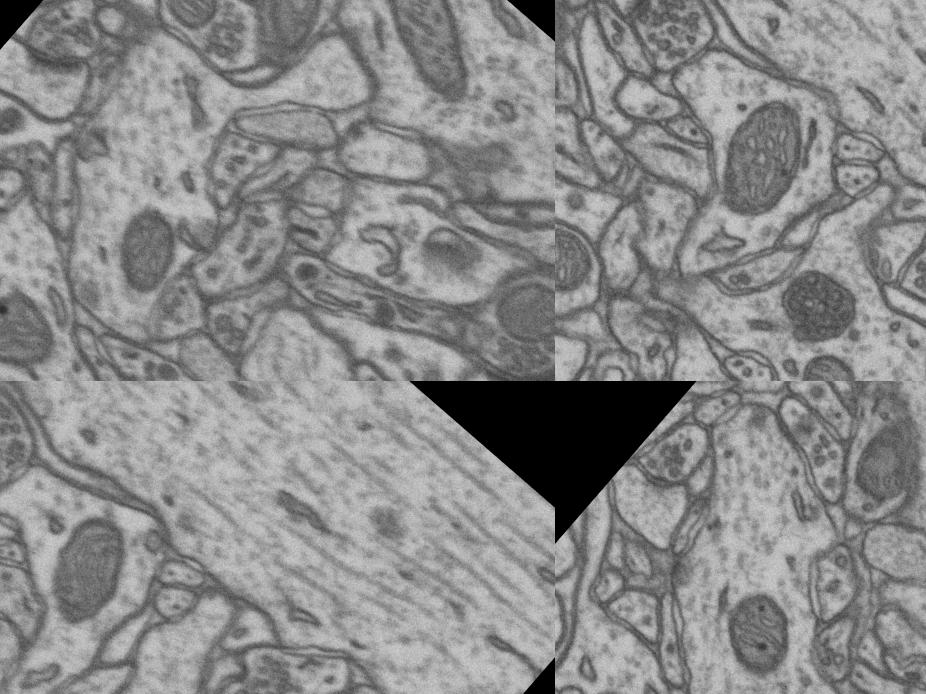mitochondria: (11, 484, 165, 642), (690, 68, 844, 224), (332, 0, 527, 117), (694, 573, 820, 694), (85, 192, 208, 314), (817, 396, 926, 526), (204, 0, 380, 74), (473, 255, 555, 367), (0, 272, 83, 381), (555, 218, 617, 338), (132, 0, 237, 54), (777, 333, 884, 381), (555, 0, 603, 91), (555, 671, 660, 694)
